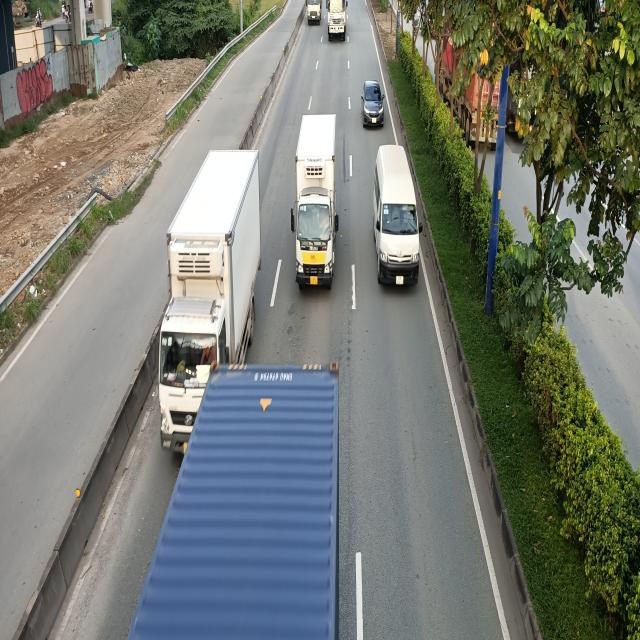car: (362, 80, 387, 130)
truck: (151, 145, 266, 454), (289, 114, 338, 288), (327, 0, 349, 42)
van: (375, 147, 425, 288)
